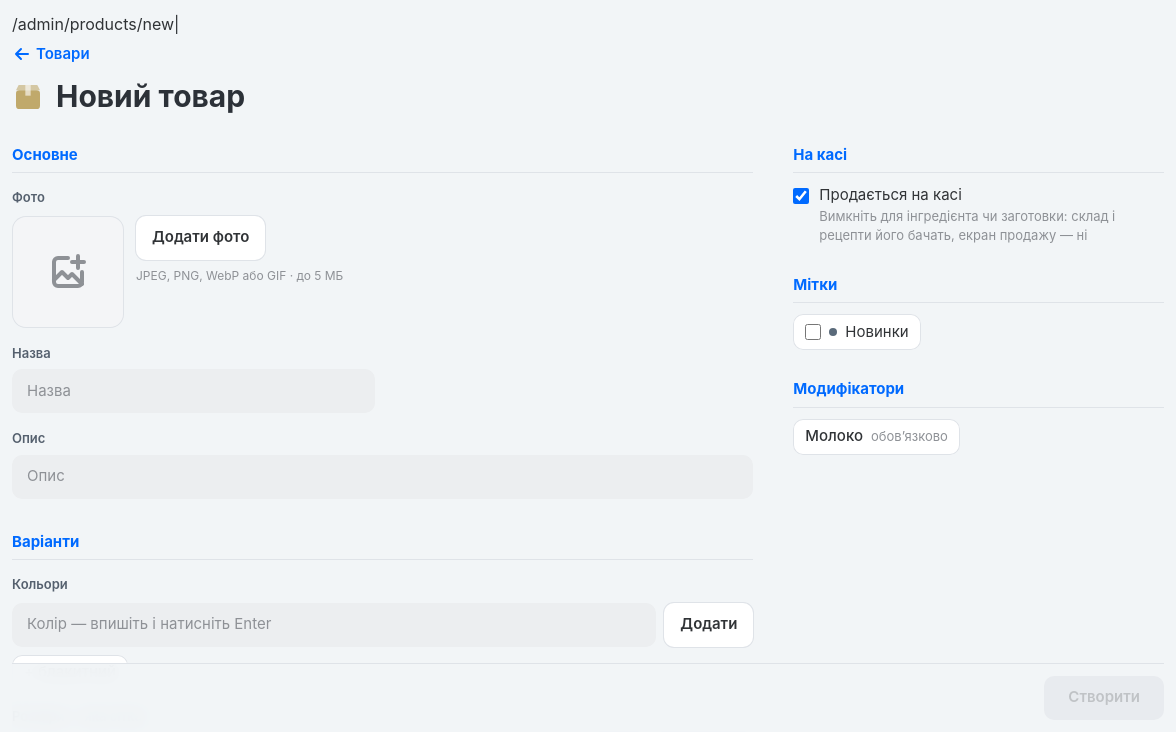
it: the create page — a garment is a matrix › suggests the colours the store already has, and reuses their spelling
Step 1. Type "Блакитний" into the field named "Новий колір" → {"x": 334, "y": 624}, box [12,602,656,646]
Then press Enter
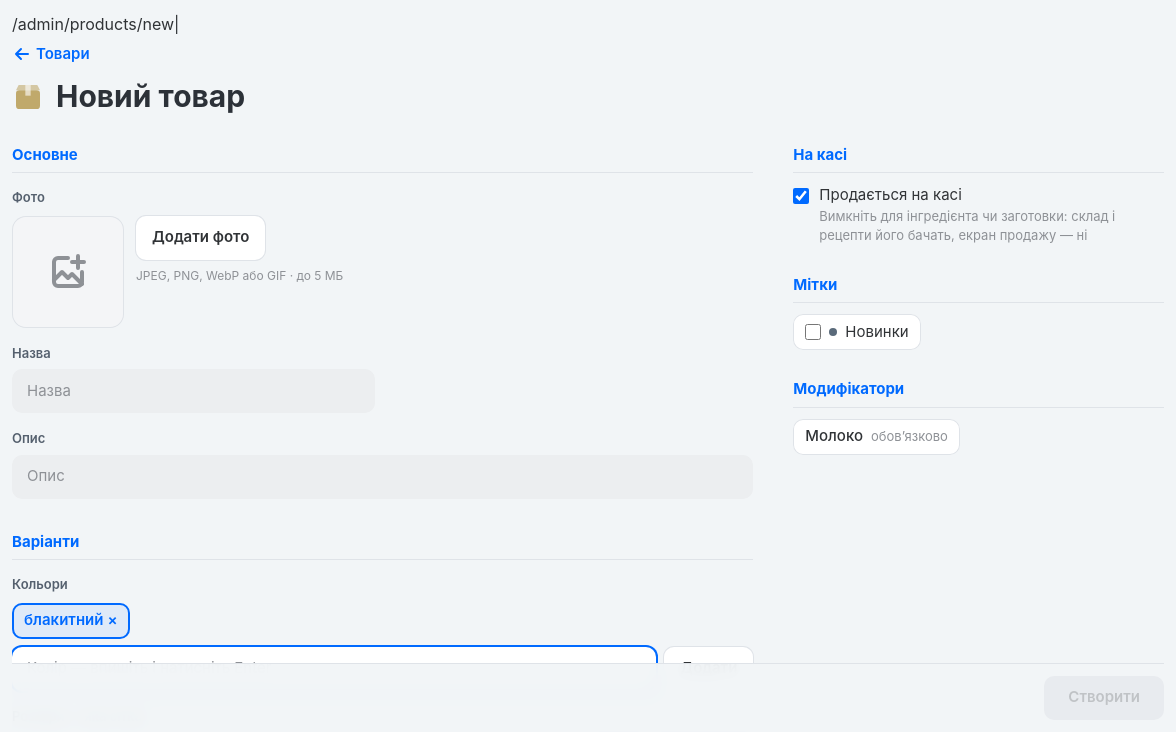
Result: the button with aria-label "Прибрати колір блакитний" is shown at [12,602,130,638]
